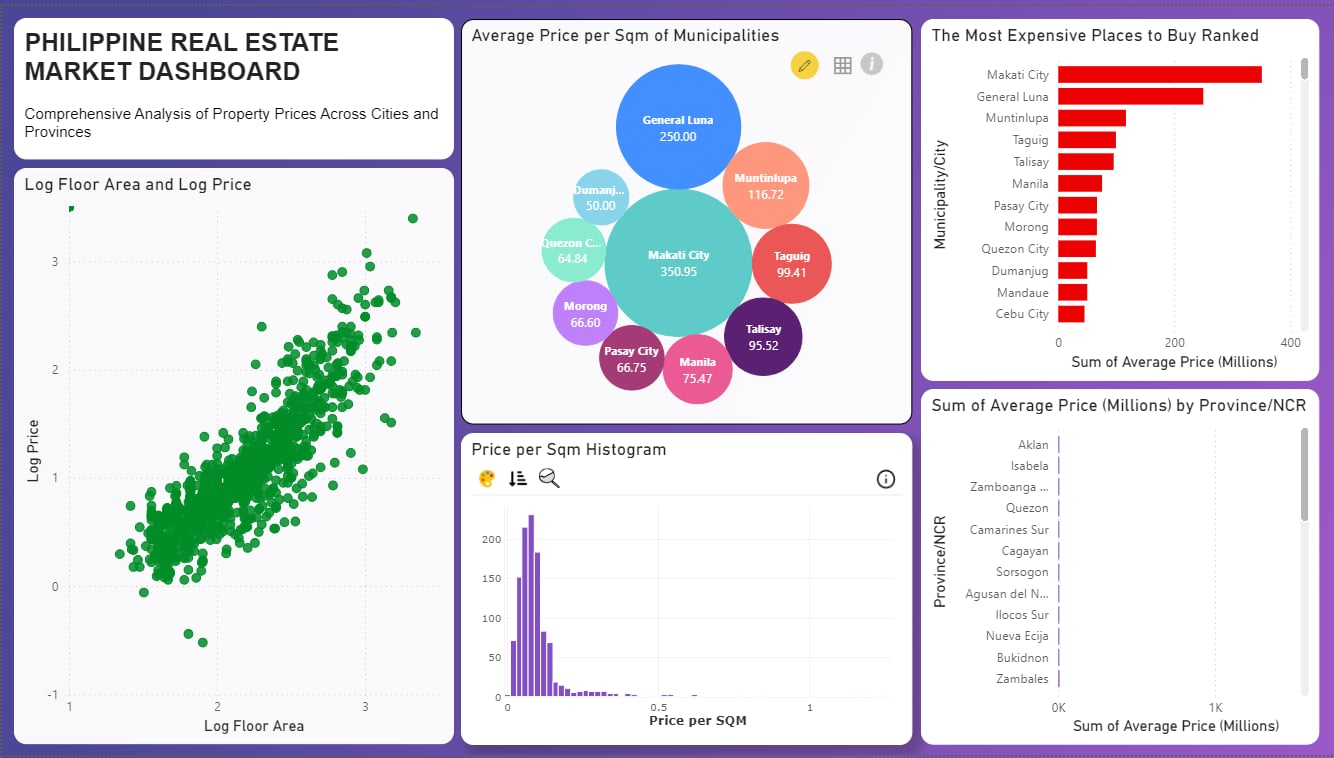

The page's visual inventory and layout, read from the dashboard file:
{"tool":"powerbi","page":{"name":"Patient Flow overview page","canvas":[1280,720],"ordinal":0},"visuals":[{"type":"shape","box":[0,0,1280,48],"z":0},{"type":"image","box":[7,7,112,32],"z":1000},{"type":"clusteredBarChart","title":"Cheapest Provinces","fields":{"Category":["City Province Avg Price per SQM.Province/NCR"],"Y":["Sum(City Province Avg Price per SQM.Average Price per SQM)"]},"box":[474.3,386.1,434.4,301.7],"z":2000},{"type":"clusteredColumnChart","title":"Prices Histogram","fields":{"Category":["Data_Cleaned.Price per SQM"],"Y":["CountNonNull(Data_Cleaned.Price per SQM (bins))"]},"box":[919.9,386.1,344.4,301.7],"z":3000},{"type":"packedBubble563FBEFA65CC43A48496B6BB533D9890","title":"Average Price by Province/NCR","fields":{"category":["City Province Avg Price per SQM.Province/NCR"],"measure":["Sum(City Province Avg Price per SQM.Average Price per SQM)"]},"box":[902.2,64,362,309.1],"z":4000},{"type":"barChart","title":"Most Expensive Locations","fields":{"Category":["City Province Avg Price per SQM.Municipality/City"],"Y":["Sum(City Province Avg Price per SQM.Average Price per SQM)"]},"box":[15.8,386.1,445.5,301.7],"z":5000},{"type":"scatterChart","title":"Land Area vs Price (Log Scale)","fields":{"Y":["Sum(Data_Cleaned.Log Price (Base 10))"],"X":["Data_Cleaned.Log Price"],"Series":["Data_Cleaned.Province/NCR"]},"box":[461.3,70.5,428.8,302.6],"z":6000},{"type":"cardVisual","fields":{"Data":["City Province Avg Price per SQM.Median Price Overall"]},"box":[15.8,64,209.8,152.2],"z":7000},{"type":"cardVisual","fields":{"Data":["City Province Avg Price per SQM.Median Price"]},"box":[233.9,64,217.2,152.2],"z":8000},{"type":"cardVisual","fields":{"Data":["City Province Avg Price per SQM.Cheapest Province with Price"]},"box":[233.9,224.6,217.2,148.5],"z":9000},{"type":"cardVisual","fields":{"Data":["City Province Avg Price per SQM.Most Expensive City with Price"]},"box":[15.8,222.8,209.8,150.4],"z":10000}]}

Visuals, with their boxes in screenshot pixels (x1, y1, x2, y2), scaled from the page's 1280x720 canvas onto the 1334x758 screenshot:
shape: <bbox>0, 0, 1333, 51</bbox>
image: <bbox>7, 7, 124, 41</bbox>
"Cheapest Provinces" clusteredBarChart: <bbox>494, 406, 947, 724</bbox>
"Prices Histogram" clusteredColumnChart: <bbox>959, 406, 1318, 724</bbox>
"Average Price by Province/NCR" packedBubble563FBEFA65CC43A48496B6BB533D9890: <bbox>940, 67, 1318, 393</bbox>
"Most Expensive Locations" barChart: <bbox>16, 406, 481, 724</bbox>
"Land Area vs Price (Log Scale)" scatterChart: <bbox>481, 74, 928, 393</bbox>
cardVisual - City Province Avg Price per SQM.Median Price Overall: <bbox>16, 67, 235, 228</bbox>
cardVisual - City Province Avg Price per SQM.Median Price: <bbox>244, 67, 470, 228</bbox>
cardVisual - City Province Avg Price per SQM.Cheapest Province with Price: <bbox>244, 236, 470, 393</bbox>
cardVisual - City Province Avg Price per SQM.Most Expensive City with Price: <bbox>16, 235, 235, 393</bbox>
